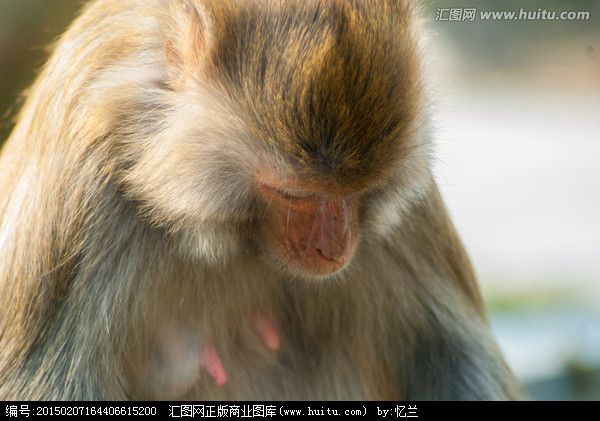monkey: (33, 14, 509, 395)
